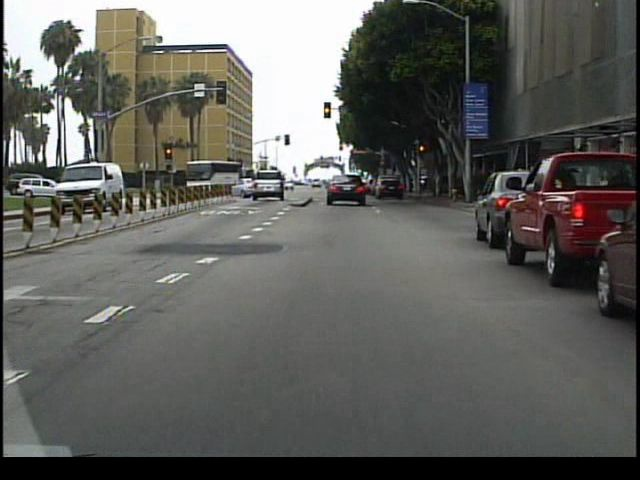person: (79, 174, 92, 209), (60, 170, 73, 201), (74, 173, 86, 205)
